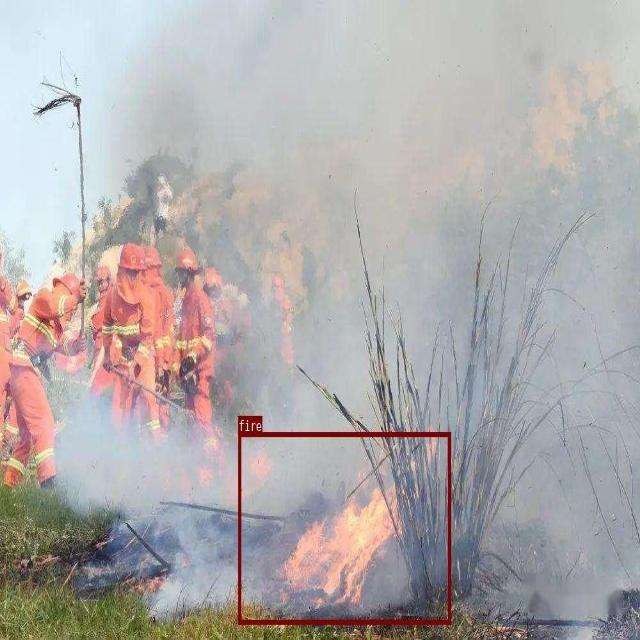fire: (238, 431, 450, 623)
